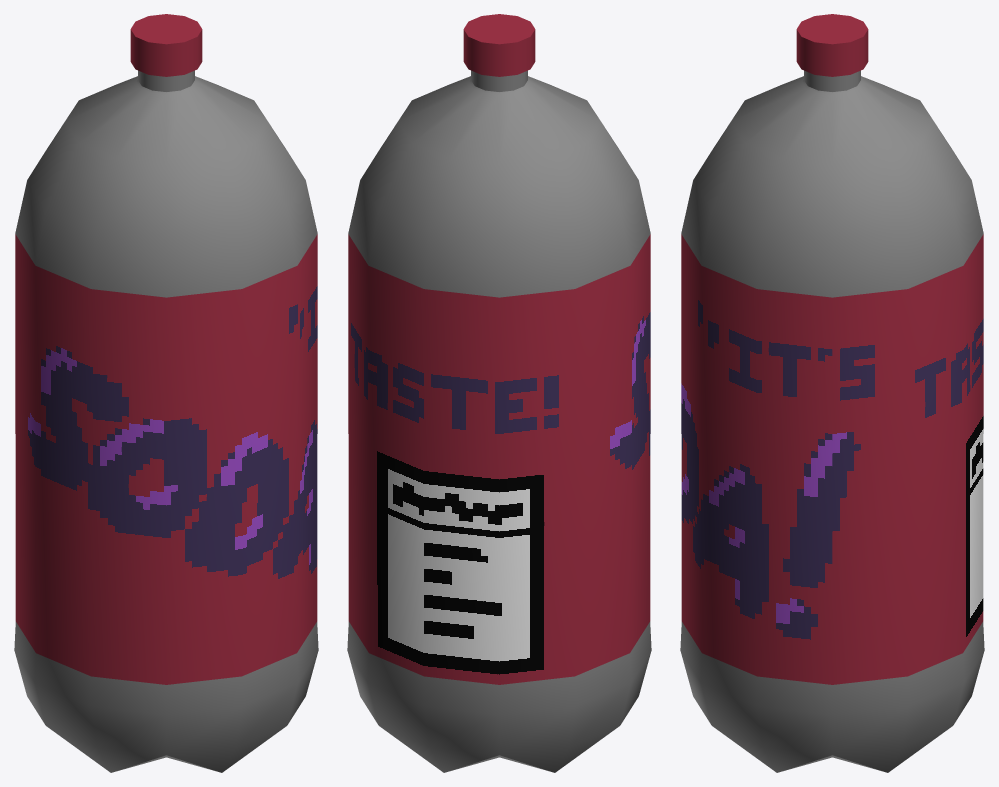
Rendered from soda_bottle.glb.
3 renders of one model, left to right at view 1: azimuth 30°, elevation 25°; view 2: azimuth 150°, elevation 25°; view 3: azimuth 270°, elevation 25°, orthographic.
Visible parts, largest first — view 1: Cylinder; view 2: Cylinder; view 3: Cylinder.
Boxes of the visible parts, x1,y1,x2,y2 form: Cylinder: (14,14,318,772); Cylinder: (347,14,651,772); Cylinder: (680,14,984,772).
Bounding box in the file's own units: 11.76 × 30 × 11.76.
Materials: 2 (1 with a texture image).
